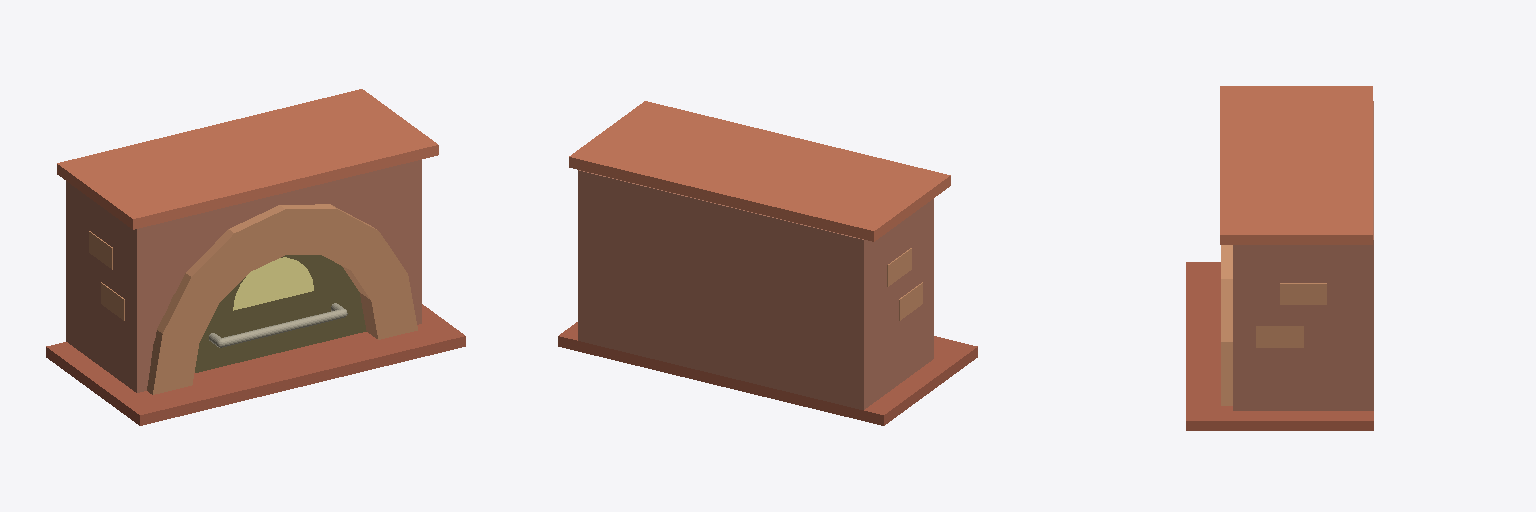
The picture shows the model from 3 angles: view 1: azimuth 30°, elevation 25°; view 2: azimuth 150°, elevation 25°; view 3: azimuth 270°, elevation 25°; orthographic projection.
Visible parts, largest first — view 1: oven, door, glass; view 2: oven; view 3: oven.
Part boxes in pixels (x1,y1,x2,y2): oven: (46, 89, 465, 425); door: (195, 255, 366, 372); glass: (233, 257, 313, 310); oven: (558, 101, 977, 425); oven: (1186, 86, 1373, 430).
Bounding box in the file's own units: 1.6 × 0.9 × 0.8.
7 materials, 7 textured.